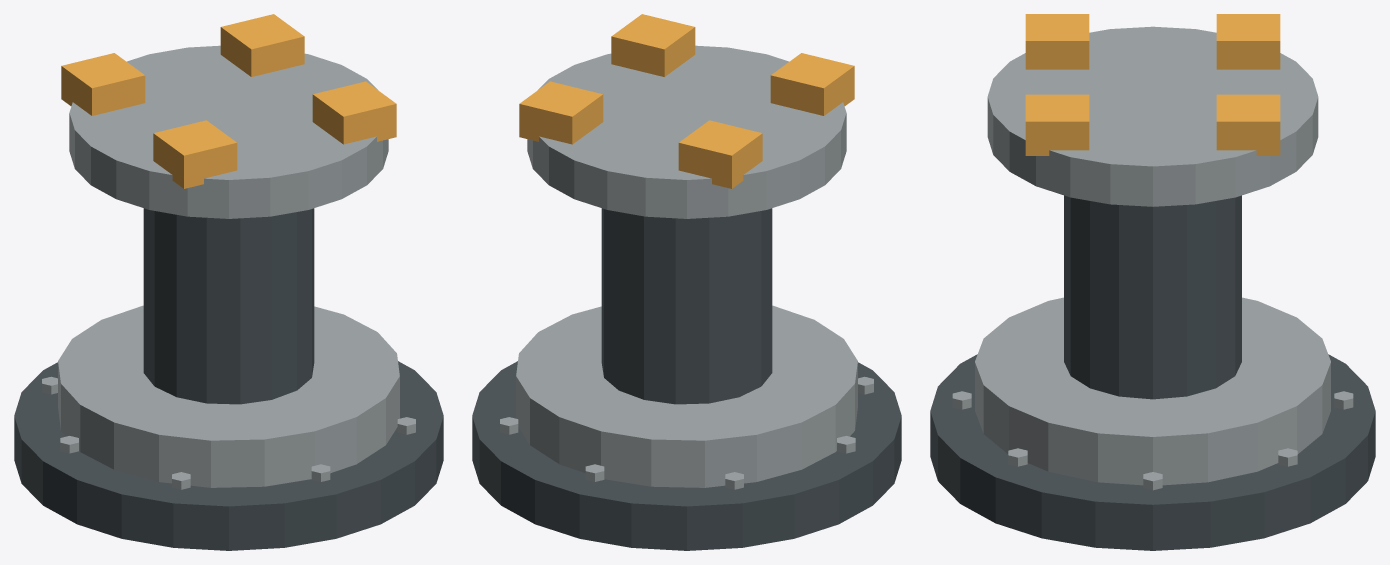
Rendered from lab_service_pedestal.glb.
The picture shows the model from 3 angles, left to right: view 1: azimuth 30°, elevation 25°; view 2: azimuth 150°, elevation 25°; view 3: azimuth 270°, elevation 25°; orthographic projection. The views are drawn at different scales.
Parts seen in each view (by area): view 1: lab_service_pedestal; view 2: lab_service_pedestal; view 3: lab_service_pedestal.
Boxes of the visible parts, x1,y1,x2,y2 form: lab_service_pedestal: [14, 14, 443, 550]; lab_service_pedestal: [472, 14, 901, 550]; lab_service_pedestal: [930, 14, 1375, 550].
Size of the model in its own units: 1.4 by 1.35 by 1.4.
